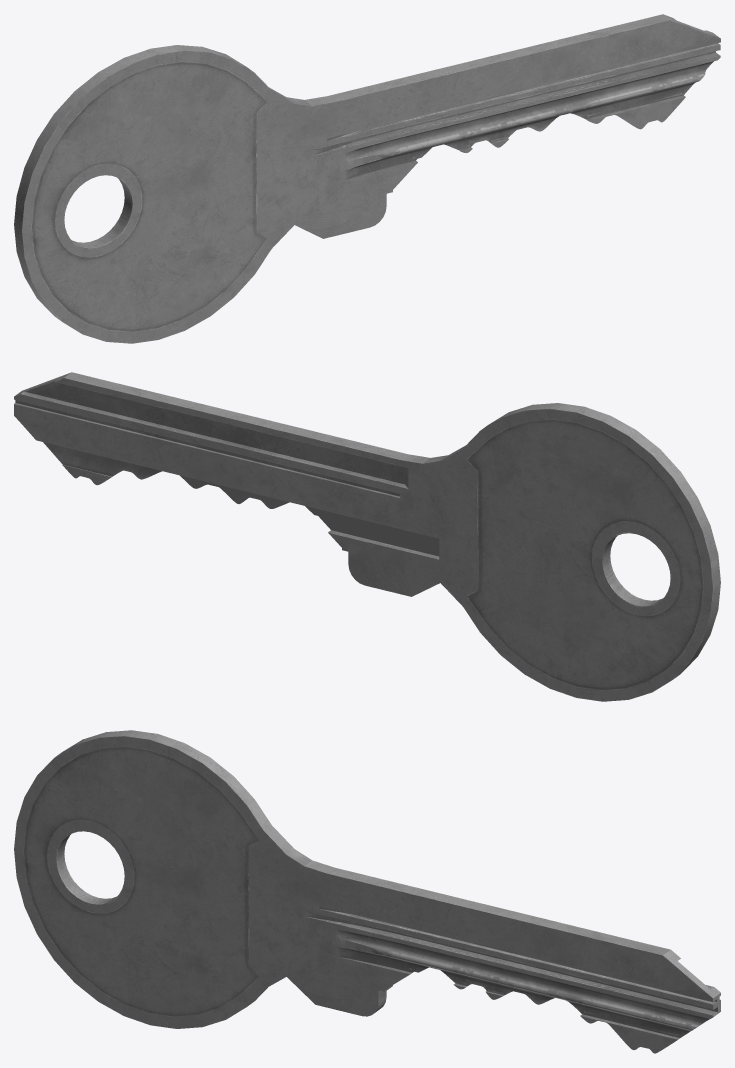
The model's file is modern_house_key.glb.
The picture shows the model from 3 angles, top to bottom: view 1: azimuth 30°, elevation 25°; view 2: azimuth 150°, elevation 25°; view 3: azimuth 330°, elevation 25°; orthographic projection.
Parts seen in each view (by area): view 1: Cylinder; view 2: Cylinder; view 3: Cylinder.
Part boxes in pixels (bbox=[...]): Cylinder: bbox=[14, 14, 720, 343]; Cylinder: bbox=[14, 372, 720, 701]; Cylinder: bbox=[14, 730, 720, 1053].
Bounding box in the file's own units: 419 × 164 × 8.25.
1 material, 1 textured.
